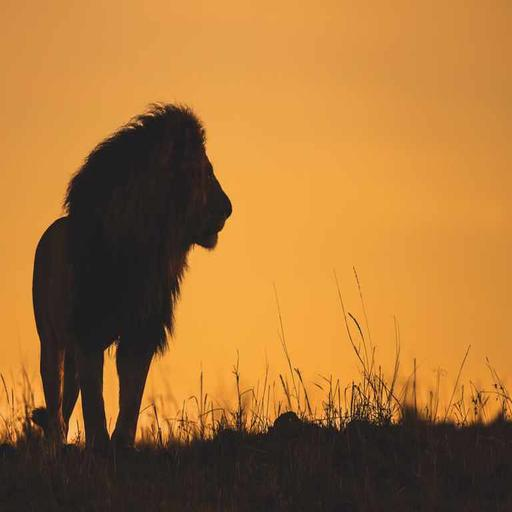Lion: (12, 74, 252, 473)
